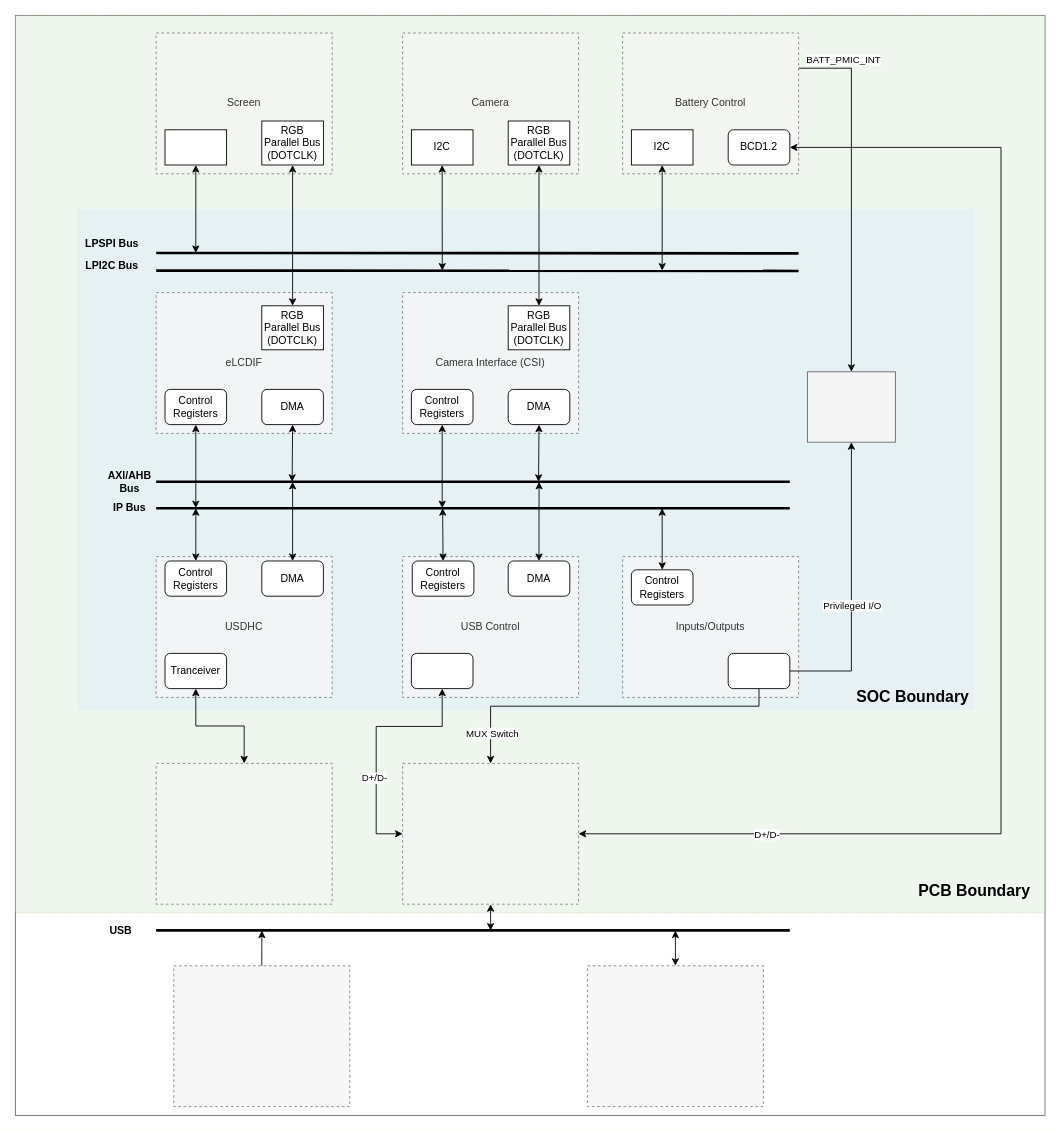
This 1060x1131 diagram has some shape labels left out. Each missing label, with the centre of its shape:
"Charging Port" goes at [261,1036].
"GPIO" goes at [758,671].
"Host Device" goes at [675,1036].
"Interrupt Controller (NVIC)" goes at [851,406].
"Micro SD Card" goes at [243,833].
"SPI" goes at [195,147].
"USB MUX" goes at [490,833].
"USB PHY" goes at [442,671].
